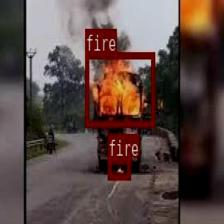fire: (85, 52, 154, 126), (107, 156, 130, 178)
